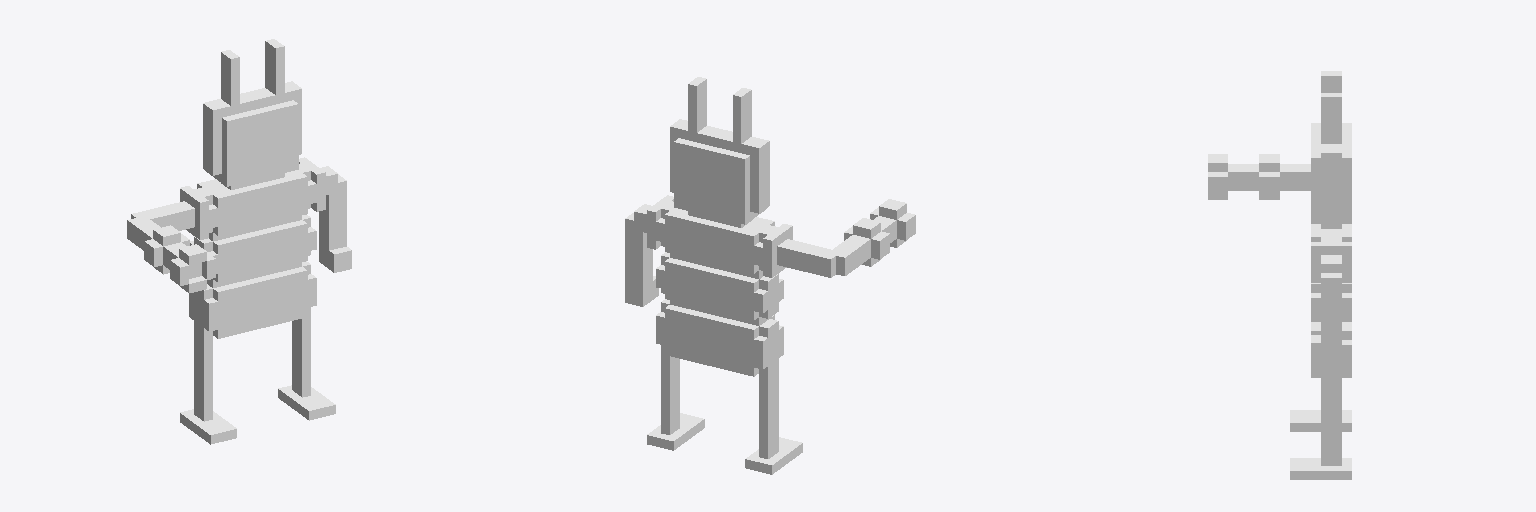
The model's file is work1.obj.
3 renders of one model, left to right at view 1: azimuth 30°, elevation 25°; view 2: azimuth 150°, elevation 25°; view 3: azimuth 270°, elevation 25°, orthographic.
Visible parts, largest first — view 1: work1; view 2: work1; view 3: work1.
Boxes of the visible parts, x1,y1,x2,y2 form: work1: [127, 39, 351, 444]; work1: [625, 77, 915, 474]; work1: [1208, 71, 1351, 479].
Size of the model in its own units: 25 by 39 by 14.